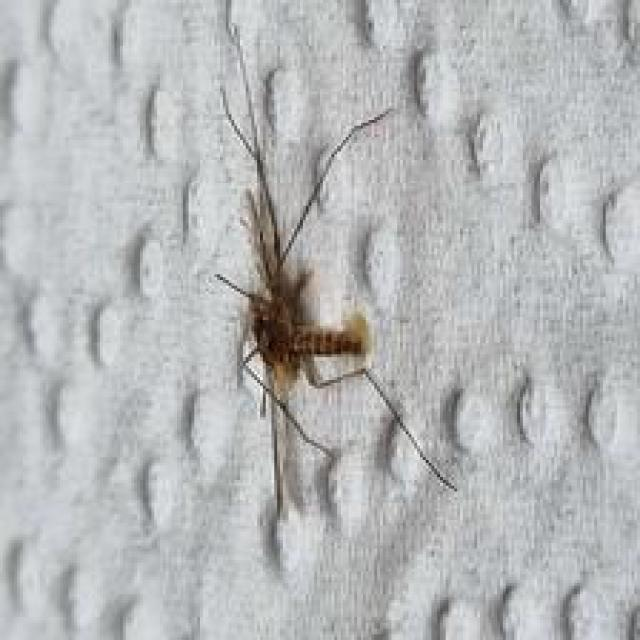Culex: (210, 17, 459, 523)
